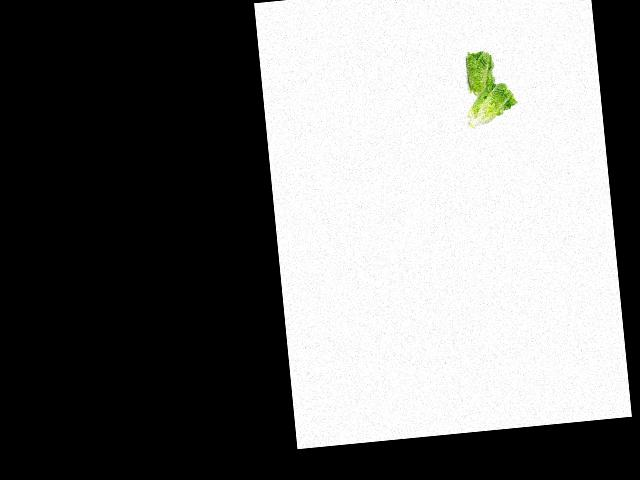lettuce: (460, 76, 517, 130)
